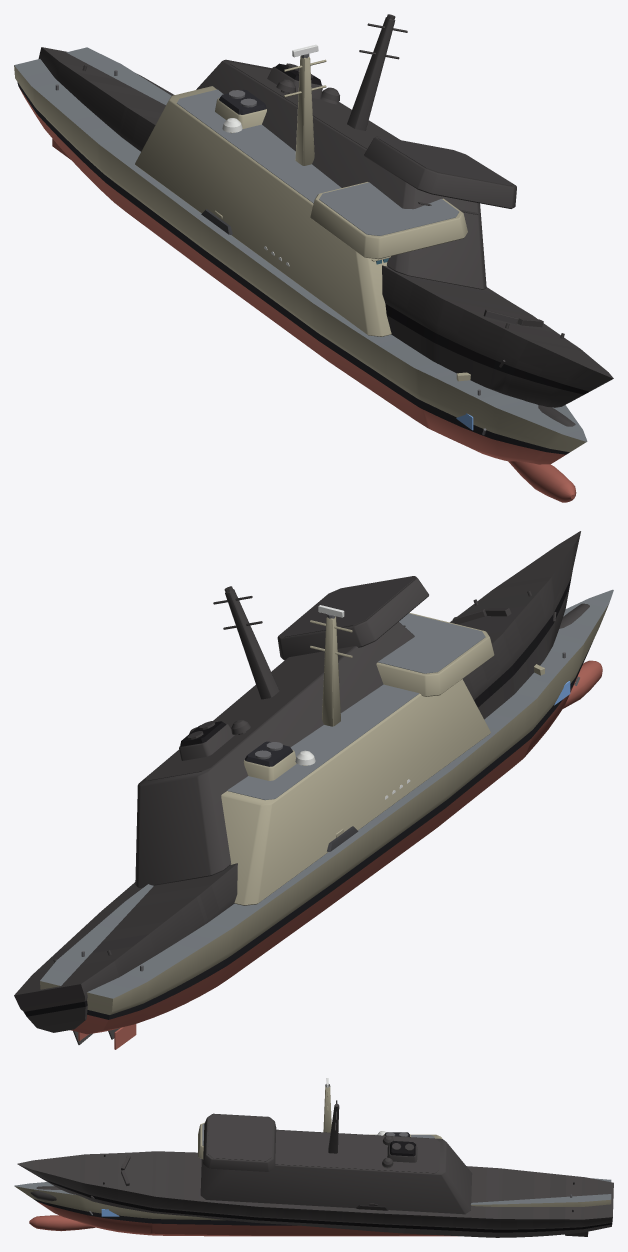
Rendered from gunboat__sakura_class_opv.glb.
The picture shows the model from 3 angles, top to bottom: view 1: azimuth 30°, elevation 25°; view 2: azimuth 150°, elevation 25°; view 3: azimuth 270°, elevation 25°; orthographic projection. The views are drawn at different scales.
Visible parts, largest first — view 1: Hull_Mesh, Wreck; view 2: Hull_Mesh, Wreck; view 3: Wreck, Hull_Mesh.
Boxes of the visible parts, x1,y1,x2,y2 form: Hull_Mesh: (14,47,587,502); Wreck: (38,14,613,426); Hull_Mesh: (40,589,613,1049); Wreck: (14,531,589,1044); Wreck: (17,1100,613,1237); Hull_Mesh: (14,1086,611,1236).
Size of what is drawn, in the model's own units: 17.71 by 27.99 by 99.43.
